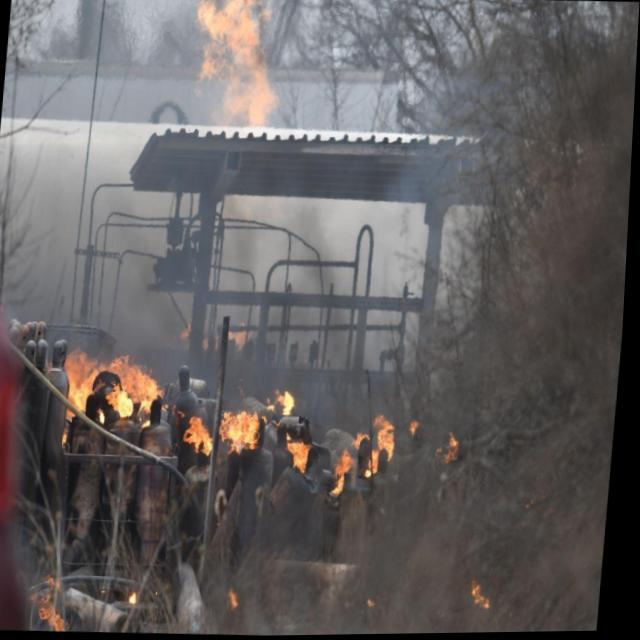fire: (183, 0, 290, 131), (58, 345, 170, 455), (28, 569, 81, 632), (221, 408, 266, 458), (372, 410, 403, 480), (184, 414, 222, 456), (336, 443, 360, 498), (284, 439, 317, 475), (440, 429, 469, 468), (472, 579, 504, 613), (277, 386, 302, 423), (230, 322, 257, 349), (232, 582, 248, 614), (183, 319, 194, 342), (133, 588, 145, 607), (371, 597, 384, 609), (204, 337, 212, 351), (218, 332, 223, 351)
